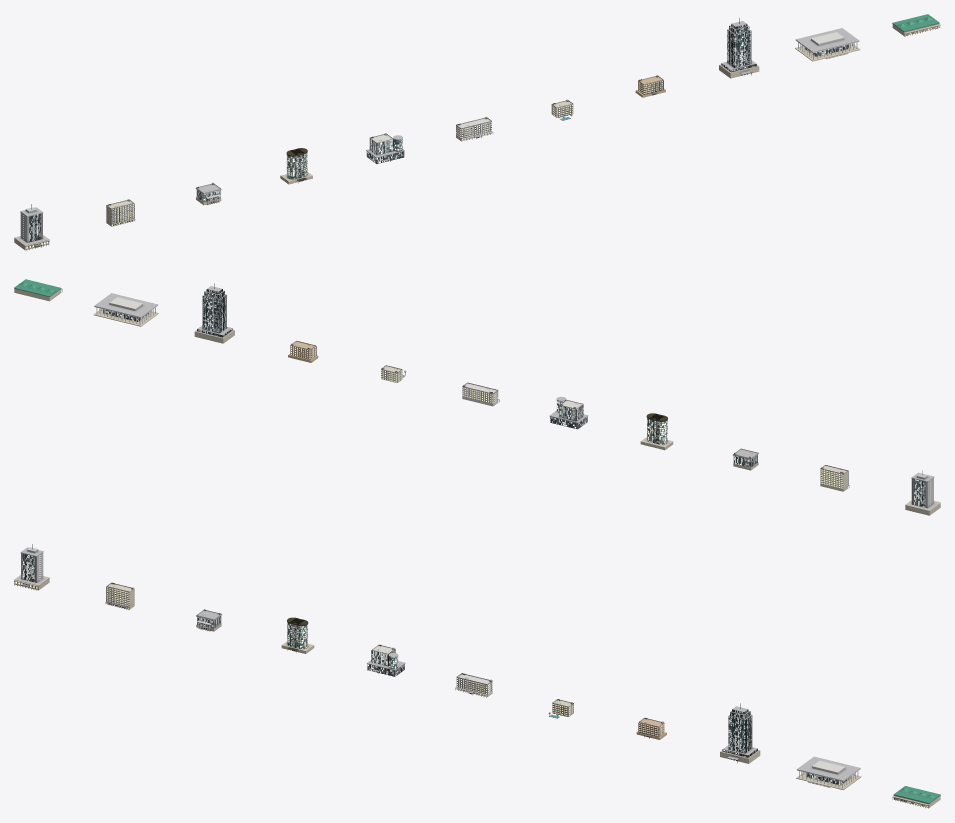
3 renders of one model, top to bottom at view 1: azimuth 30°, elevation 25°; view 2: azimuth 150°, elevation 25°; view 3: azimuth 330°, elevation 25°, orthographic.
Visible parts, largest first — view 1: lm_sheraton_det, lm_sheraton_glass, lm_palais_wall, lm_palais_det, lm_snim_det, lm_mauricenter_glass, lm_afarco_wall, lm_marche_det, lm_nkc_wall; view 2: lm_sheraton_det, lm_sheraton_glass, lm_palais_wall, lm_palais_det, lm_afarco_wall, lm_nkc_wall, lm_snim_det, lm_mauricenter_glass, lm_snim_wall, lm_fasq_wall; view 3: lm_sheraton_det, lm_sheraton_glass, lm_palais_wall, lm_palais_det, lm_snim_det, lm_afarco_wall, lm_mauricenter_glass, lm_nkc_wall.
Part boxes in pixels (x1=…): lm_sheraton_det: x1=721, y1=18, x2=756, y2=75; lm_sheraton_glass: x1=721, y1=24, x2=756, y2=75; lm_palais_wall: x1=795, y1=32, x2=860, y2=61; lm_palais_det: x1=796, y1=28, x2=859, y2=59; lm_snim_det: x1=14, y1=204, x2=49, y2=248; lm_mauricenter_glass: x1=367, y1=139, x2=403, y2=163; lm_afarco_wall: x1=106, y1=199, x2=135, y2=226; lm_marche_det: x1=892, y1=14, x2=939, y2=36; lm_nkc_wall: x1=456, y1=117, x2=493, y2=141; lm_sheraton_det: x1=197, y1=283, x2=232, y2=337; lm_sheraton_glass: x1=197, y1=289, x2=232, y2=337; lm_palais_wall: x1=93, y1=297, x2=158, y2=326; lm_palais_det: x1=94, y1=293, x2=158, y2=321; lm_afarco_wall: x1=820, y1=465, x2=849, y2=491; lm_nkc_wall: x1=462, y1=383, x2=499, y2=406; lm_snim_det: x1=905, y1=470, x2=940, y2=511; lm_mauricenter_glass: x1=550, y1=400, x2=587, y2=428; lm_snim_wall: x1=905, y1=473, x2=940, y2=515; lm_fasq_wall: x1=640, y1=418, x2=673, y2=450; lm_sheraton_det: x1=722, y1=703, x2=757, y2=762; lm_sheraton_glass: x1=722, y1=709, x2=757, y2=760; lm_palais_wall: x1=796, y1=760, x2=861, y2=789; lm_palais_det: x1=797, y1=756, x2=860, y2=787; lm_snim_det: x1=14, y1=544, x2=49, y2=588; lm_afarco_wall: x1=105, y1=583, x2=134, y2=609; lm_mauricenter_glass: x1=367, y1=650, x2=404, y2=676; lm_nkc_wall: x1=455, y1=674, x2=492, y2=697.
Size of the model in its own units: 1655 by 91.34 by 59.
Materials: 31 (31 with a texture image).
